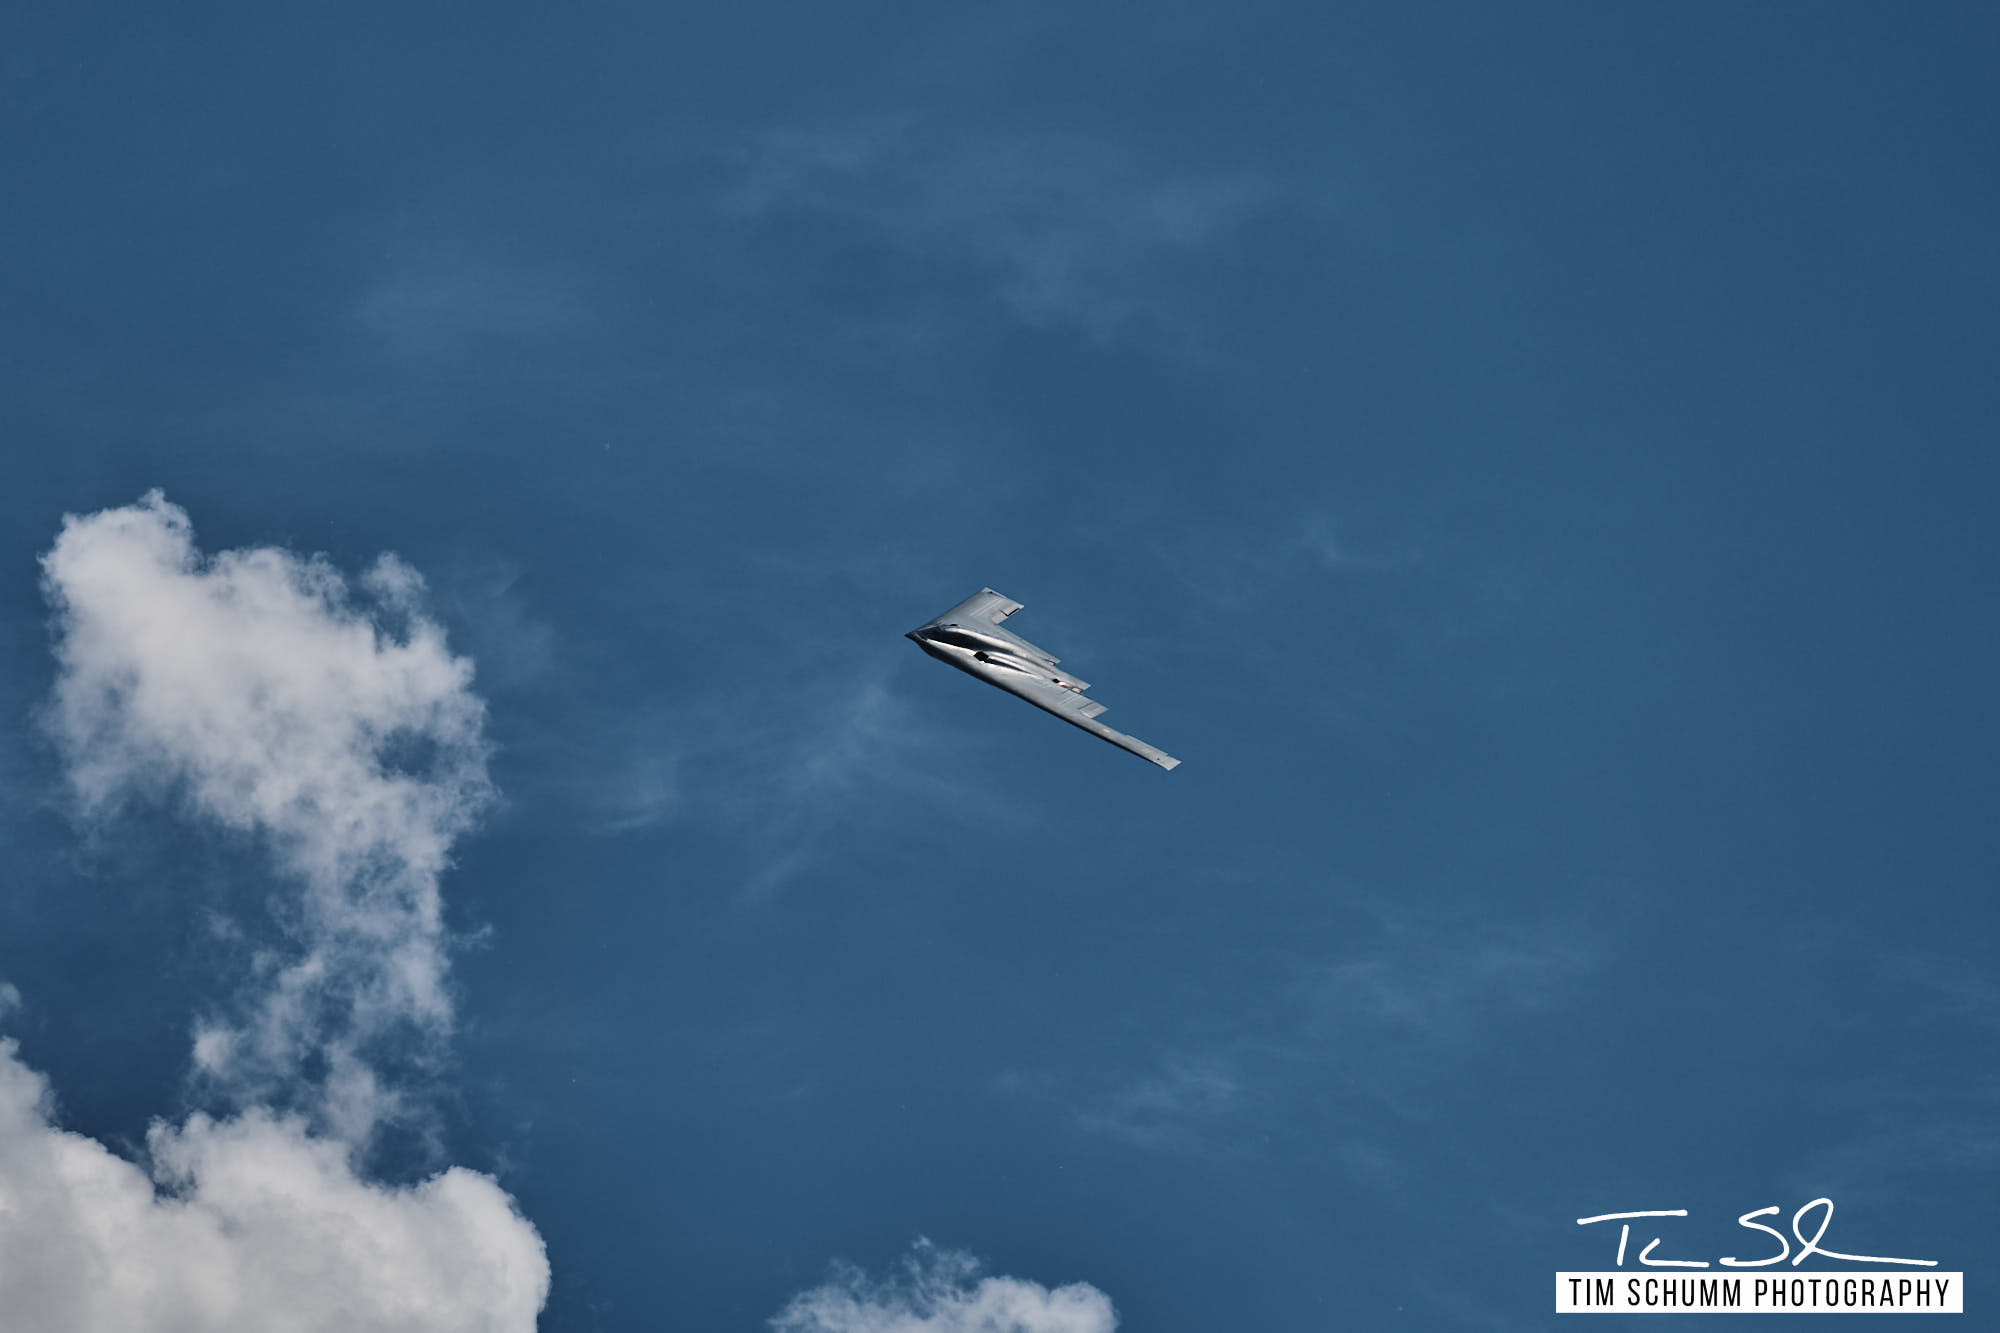B2: (903, 585, 1184, 772)
